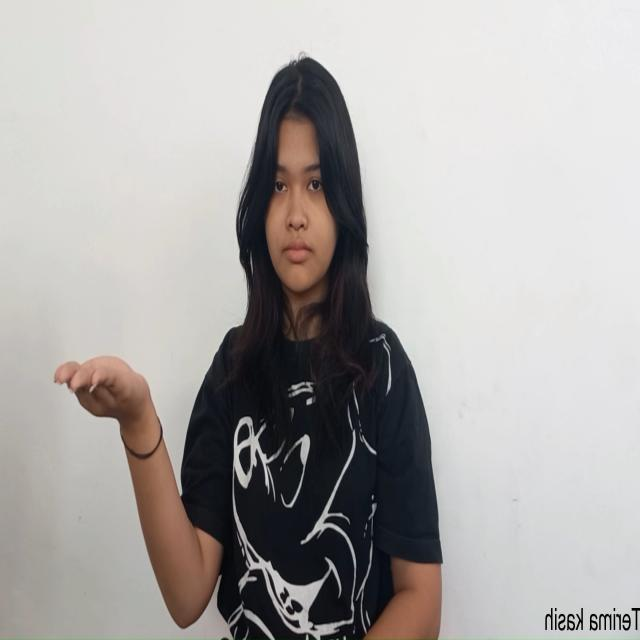Terima kasih -BISINDO-: (49, 348, 155, 434)
